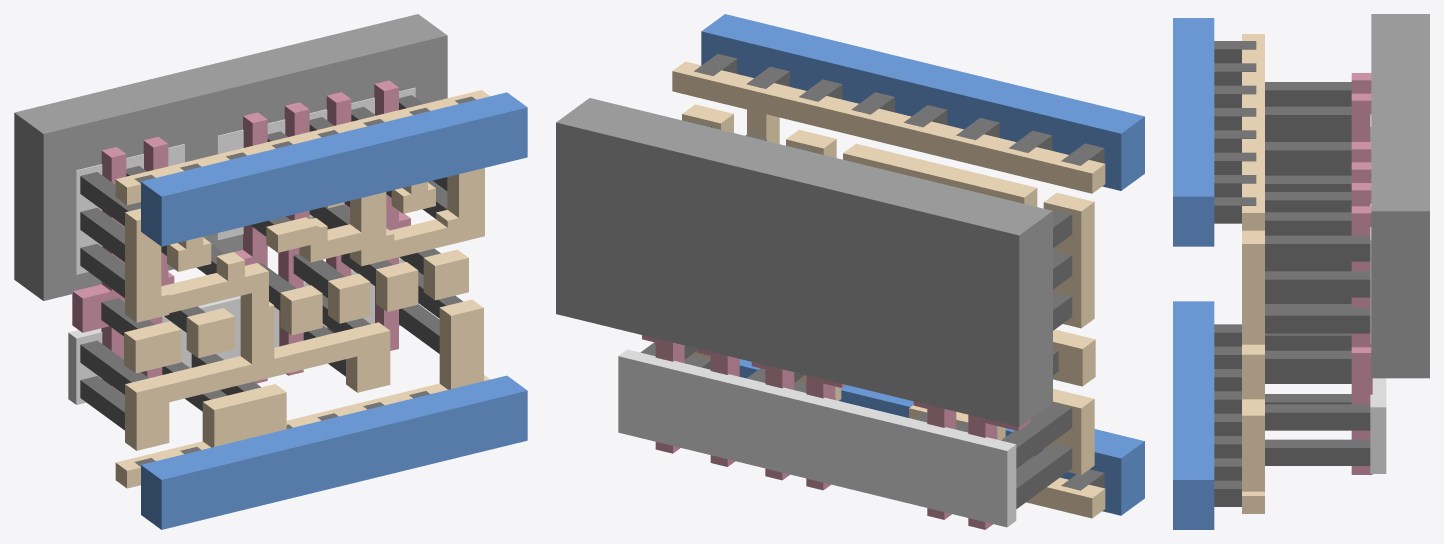
File: sky130_fd_sc_hd__a222oi_1.gds.gltf
3 renders of one model, left to right at view 1: azimuth 30°, elevation 25°; view 2: azimuth 150°, elevation 25°; view 3: azimuth 270°, elevation 25°, orthographic. The views are drawn at different scales.
Visible parts, largest first — view 1: sky130_fd_sc_hd__a222oi_1_li1, sky130_fd_sc_hd__a222oi_1_met1, sky130_fd_sc_hd__a222oi_1_nwell, sky130_fd_sc_hd__a222oi_1_licon, sky130_fd_sc_hd__a222oi_1_poly, sky130_fd_sc_hd__a222oi_1_diff, sky130_fd_sc_hd__a222oi_1_mcon; view 2: sky130_fd_sc_hd__a222oi_1_nwell, sky130_fd_sc_hd__a222oi_1_diff, sky130_fd_sc_hd__a222oi_1_li1, sky130_fd_sc_hd__a222oi_1_met1, sky130_fd_sc_hd__a222oi_1_licon, sky130_fd_sc_hd__a222oi_1_mcon, sky130_fd_sc_hd__a222oi_1_poly; view 3: sky130_fd_sc_hd__a222oi_1_licon, sky130_fd_sc_hd__a222oi_1_nwell, sky130_fd_sc_hd__a222oi_1_met1, sky130_fd_sc_hd__a222oi_1_mcon, sky130_fd_sc_hd__a222oi_1_li1, sky130_fd_sc_hd__a222oi_1_poly, sky130_fd_sc_hd__a222oi_1_diff.
Boxes of the visible parts, left/top/right/bottom form: sky130_fd_sc_hd__a222oi_1_li1: left=115, top=90, right=489, bottom=488; sky130_fd_sc_hd__a222oi_1_met1: left=141, top=92, right=527, bottom=529; sky130_fd_sc_hd__a222oi_1_nwell: left=14, top=14, right=447, bottom=300; sky130_fd_sc_hd__a222oi_1_licon: left=80, top=95, right=462, bottom=430; sky130_fd_sc_hd__a222oi_1_poly: left=72, top=80, right=410, bottom=395; sky130_fd_sc_hd__a222oi_1_diff: left=68, top=87, right=415, bottom=404; sky130_fd_sc_hd__a222oi_1_mcon: left=134, top=96, right=475, bottom=466; sky130_fd_sc_hd__a222oi_1_nwell: left=556, top=98, right=1052, bottom=426; sky130_fd_sc_hd__a222oi_1_diff: left=618, top=349, right=1016, bottom=527; sky130_fd_sc_hd__a222oi_1_li1: left=672, top=61, right=1105, bottom=518; sky130_fd_sc_hd__a222oi_1_met1: left=701, top=14, right=1144, bottom=515; sky130_fd_sc_hd__a222oi_1_licon: left=640, top=121, right=1072, bottom=508; sky130_fd_sc_hd__a222oi_1_mcon: left=694, top=54, right=1104, bottom=490; sky130_fd_sc_hd__a222oi_1_poly: left=642, top=335, right=1030, bottom=529; sky130_fd_sc_hd__a222oi_1_licon: left=1265, top=82, right=1370, bottom=465; sky130_fd_sc_hd__a222oi_1_nwell: left=1371, top=14, right=1429, bottom=378; sky130_fd_sc_hd__a222oi_1_met1: left=1173, top=18, right=1214, bottom=529; sky130_fd_sc_hd__a222oi_1_mcon: left=1214, top=41, right=1256, bottom=506; sky130_fd_sc_hd__a222oi_1_li1: left=1242, top=34, right=1264, bottom=513; sky130_fd_sc_hd__a222oi_1_poly: left=1351, top=73, right=1372, bottom=474; sky130_fd_sc_hd__a222oi_1_diff: left=1370, top=114, right=1386, bottom=473.
Size of the model in its own units: 4.06 by 3.2 by 2.24.
